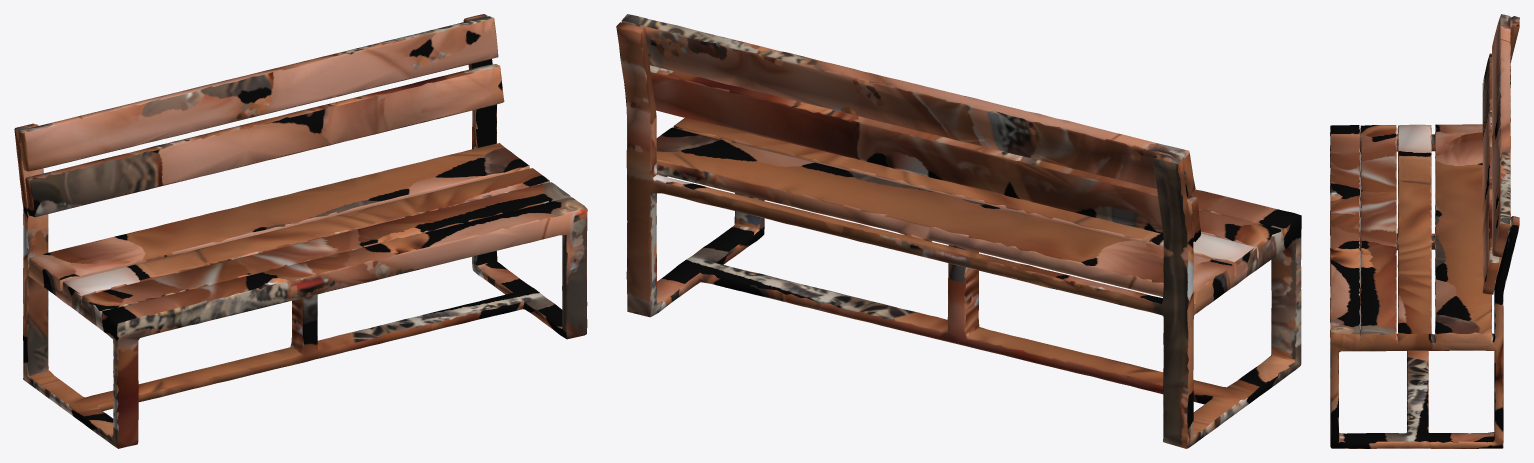
Rendered from Bench.fbx.
The picture shows the model from 3 angles, left to right: view 1: azimuth 30°, elevation 25°; view 2: azimuth 150°, elevation 25°; view 3: azimuth 270°, elevation 25°; orthographic projection. The views are drawn at different scales.
Visible parts, largest first — view 1: Bench; view 2: Bench; view 3: Bench.
Boxes of the visible parts, x1=… form: Bench: x1=14, y1=14, x2=587, y2=448; Bench: x1=616, y1=14, x2=1301, y2=448; Bench: x1=1330, y1=14, x2=1519, y2=448.
Bounding box in the file's own units: 270 × 136 × 103.
